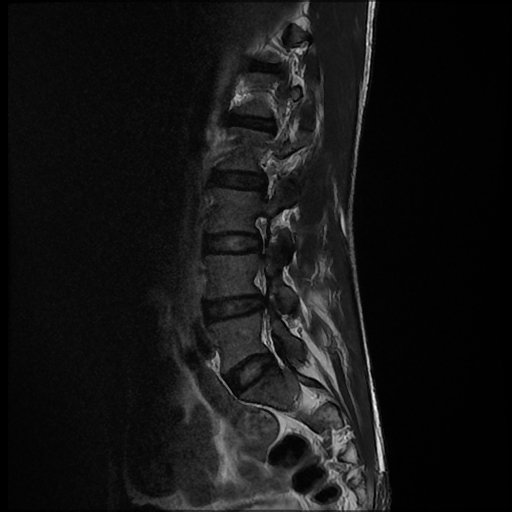RFS0: (241, 208, 286, 260)
